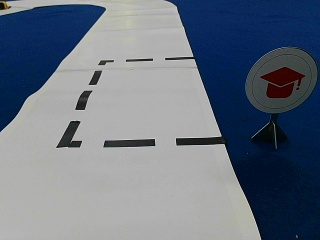school: (246, 47, 316, 115)
